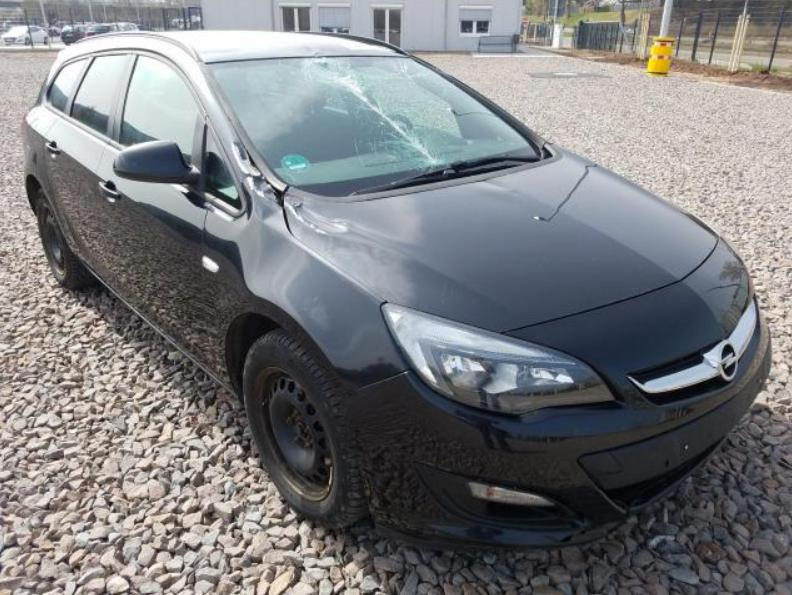Back-door: (43, 51, 134, 284)
Back-wheel: (35, 189, 102, 288)
Back-window: (70, 54, 131, 135), (48, 58, 88, 112)
Fender: (197, 176, 409, 396)
Front-bumper: (337, 236, 772, 549)
Front-door: (96, 50, 215, 357)
Front-wheel: (242, 330, 368, 531)
Front-window: (122, 56, 200, 163), (206, 127, 238, 199)
Grille: (627, 281, 760, 406)
Headlight: (381, 303, 615, 415)
Hood: (285, 142, 719, 333)
Mirror: (113, 140, 200, 184)
Quarter-panel: (23, 102, 68, 244)
Rocker-panel: (70, 243, 236, 398)
Roof: (136, 30, 402, 61)
Tail-light: (19, 117, 26, 137)
Windshield: (207, 57, 550, 195)
